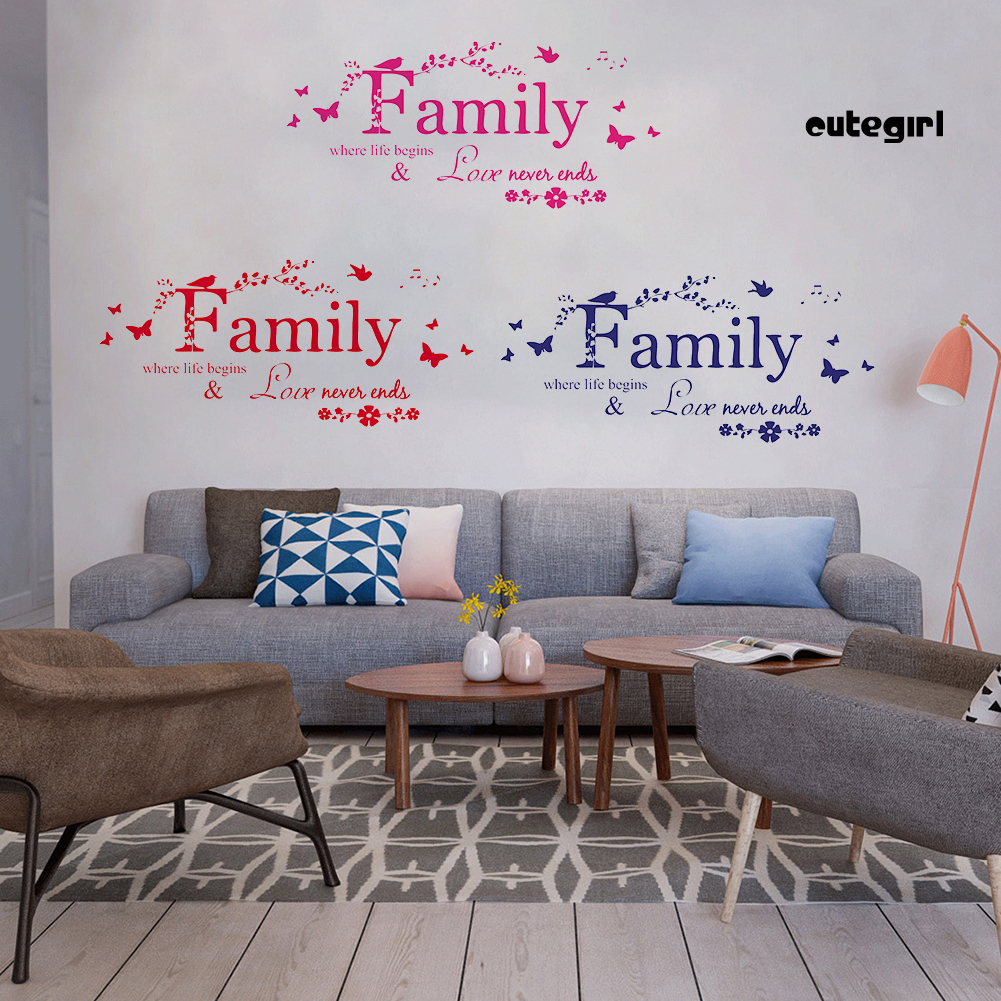bantal: (258, 508, 403, 607), (686, 507, 828, 606), (204, 487, 259, 598), (405, 503, 466, 598), (631, 500, 681, 600)
buku: (678, 629, 841, 666)
kursi: (1, 623, 350, 966), (687, 626, 1001, 935)
lampu: (911, 305, 1001, 569)
meja: (346, 661, 618, 813), (586, 631, 695, 807)
sova: (63, 477, 926, 642)
tanaman: (455, 572, 512, 685)
